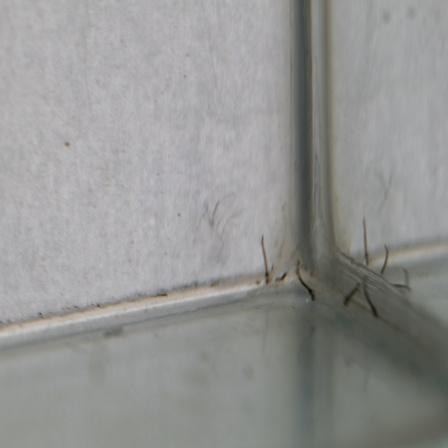Jentik-Nyamuk: (292, 258, 318, 305), (258, 229, 275, 287)
